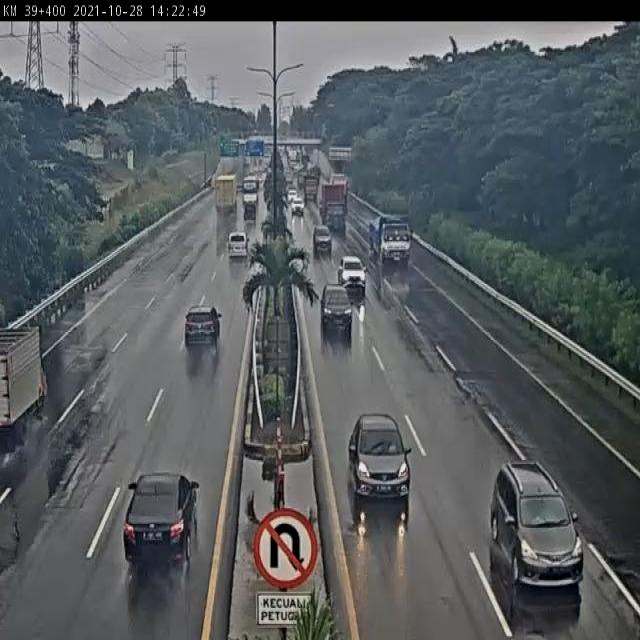Car: (489, 458, 582, 590), (122, 472, 199, 571), (347, 413, 412, 508), (177, 296, 226, 358), (320, 283, 354, 349), (338, 254, 367, 296), (228, 231, 249, 259), (313, 226, 332, 256), (240, 200, 261, 223), (291, 195, 304, 216)
Truck: (0, 320, 60, 459), (366, 210, 413, 266), (212, 166, 238, 218), (320, 183, 347, 230), (297, 169, 318, 202)
